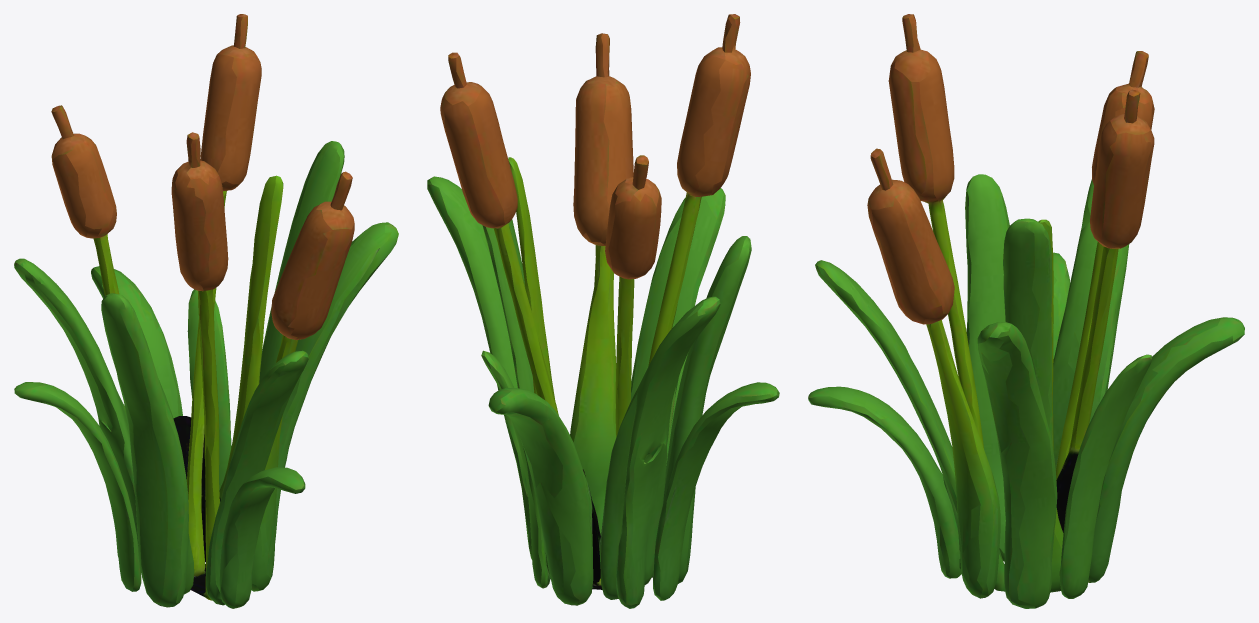
The model's file is x-plant-tall-reeds.glb.
3 renders of one model, left to right at view 1: azimuth 30°, elevation 25°; view 2: azimuth 150°, elevation 25°; view 3: azimuth 270°, elevation 25°, orthographic. The views are drawn at different scales.
Visible parts, largest first — view 1: geometry_0; view 2: geometry_0; view 3: geometry_0.
Part boxes in pixels (<box>): geometry_0: <box>14,14,398,608</box>; geometry_0: <box>427,14,779,608</box>; geometry_0: <box>808,14,1244,608</box>.
Bounding box in the file's own units: 0.7271 × 1 × 0.7369.
1 material, 1 textured.
